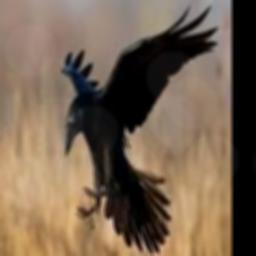Crow: (61, 1, 218, 255)
